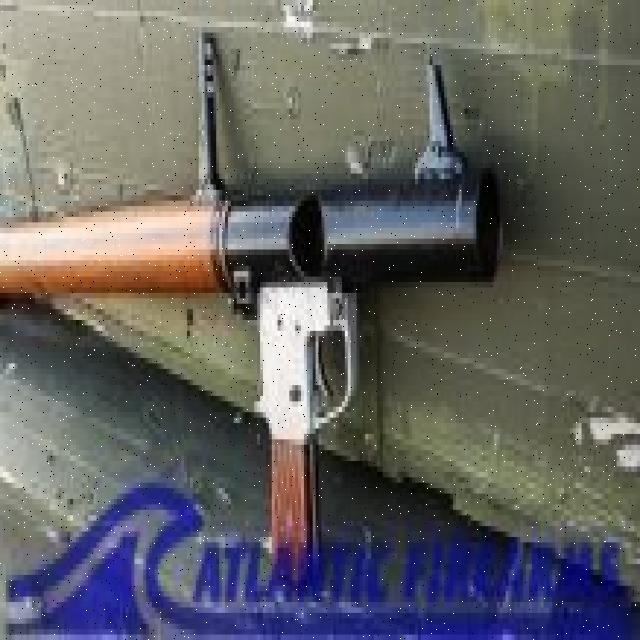bazooka: (7, 132, 520, 487)
